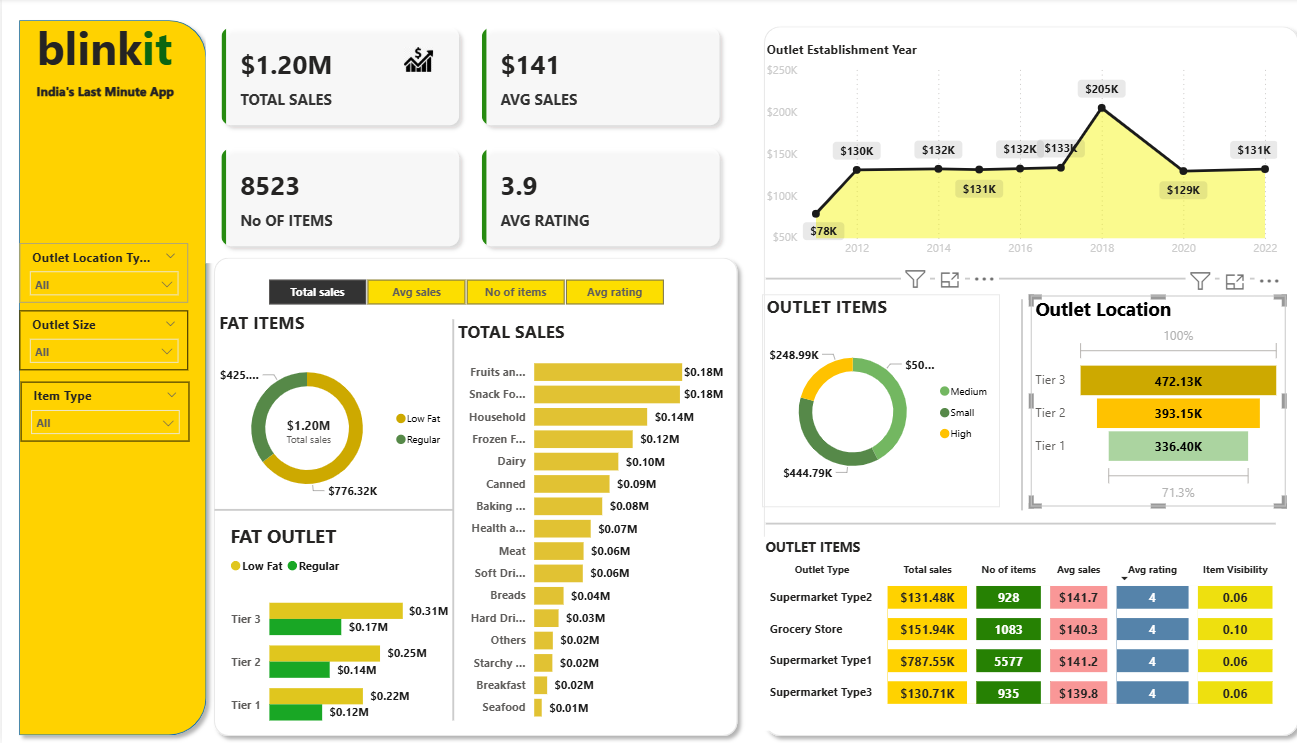

The page's visual inventory and layout, read from the dashboard file:
{"tool":"powerbi","page":{"name":"Page 1","canvas":[1400,800],"ordinal":0},"visuals":[{"type":"shape","box":[8.8,15,218.8,785],"z":0},{"type":"textbox","box":[7.5,15,203.8,76.2],"z":1000},{"type":"textbox","box":[20,86.2,181.2,35],"z":2000},{"type":"cardVisual","fields":{"Data":["BlinkIT Grocery Data.Total sales","BlinkIT Grocery Data.Avg sales","BlinkIT Grocery Data.No of items","BlinkIT Grocery Data.Avg rating"]},"box":[218.5,14.7,569.7,269.4],"z":3000},{"type":"shape","box":[218.5,269.4,579.1,530.8],"z":4000},{"type":"donutChart","title":"FAT ITEMS","fields":{"Y":["BlinkIT Grocery Data.Total sales"],"Category":["BlinkIT Grocery Data.Item Fat Content"]},"box":[227.9,335.1,256,227.9],"z":5000},{"type":"slicer","fields":{"Values":["metrics.metrics"]},"box":[260.1,294.9,473.2,40.2],"z":6000},{"type":"cardVisual","fields":{"Data":["BlinkIT Grocery Data.Total sales"]},"box":[277.5,431.6,103.2,65.7],"z":7000},{"type":"clusteredBarChart","title":"FAT OUTLET","fields":{"Y":["BlinkIT Grocery Data.Total sales"],"Category":["BlinkIT Grocery Data.Outlet Location Type"],"Series":["BlinkIT Grocery Data.Item Fat Content"]},"box":[239.9,563,244,237.3],"z":8000},{"type":"shape","box":[227.9,534.9,256,28.2],"z":9000},{"type":"shape","box":[467.8,344.5,32.2,430.3],"z":10000},{"type":"barChart","title":"TOTAL SALES","fields":{"Y":["BlinkIT Grocery Data.Total sales"],"Category":["BlinkIT Grocery Data.Item Type"]},"box":[483.9,344.5,294.9,441],"z":11000},{"type":"shape","box":[808.3,21.4,591.2,778.8],"z":12000},{"type":"lineChart","title":" Outlet Establishment Year","fields":{"Category":["BlinkIT Grocery Data.Outlet Establishment Year"],"Y":["BlinkIT Grocery Data.Total sales"]},"box":[815,45.6,557.6,241.3],"z":13000},{"type":"shape","box":[819,286.9,546.9,28.2],"z":14000},{"type":"donutChart","title":"OUTLET ITEMS","fields":{"Y":["BlinkIT Grocery Data.Total sales"],"Category":["BlinkIT Grocery Data.Outlet Size"]},"box":[815,317.7,256,227.9],"z":15000},{"type":"shape","box":[1077.8,323.1,32.2,226.5],"z":16000},{"type":"funnel","title":" Outlet Location ","fields":{"Category":["BlinkIT Grocery Data.Outlet Location Type"],"Y":["Sum(BlinkIT Grocery Data.Sales)"]},"box":[1103.2,319,273.5,226.5],"z":17000},{"type":"shape","box":[819,549.6,546.9,28.2],"z":18000},{"type":"pivotTable","title":"OUTLET ITEMS","fields":{"Rows":["BlinkIT Grocery Data.Outlet Type"],"Values":["BlinkIT Grocery Data.Total sales","BlinkIT Grocery Data.No of items","BlinkIT Grocery Data.Avg sales","BlinkIT Grocery Data.Avg rating","Avg(BlinkIT Grocery Data.Item Visibility)"]},"box":[813.7,577.8,559,207.8],"z":19000},{"type":"slicer","fields":{"Values":["BlinkIT Grocery Data.Outlet Location Type"]},"box":[18.8,262.7,181,64.3],"z":20000},{"type":"slicer","fields":{"Values":["BlinkIT Grocery Data.Outlet Size"]},"box":[18.8,335.1,181,64.3],"z":21000},{"type":"slicer","fields":{"Values":["BlinkIT Grocery Data.Item Type"]},"box":[20.1,411.5,181,64.3],"z":22000},{"type":"image","box":[426.2,45,41.2,41.2],"z":24000}]}

Visuals, with their boxes in screenshot pixels (x1, y1, x2, y2), scaled from the page's 1400x800 canvas onto the 1297x743 screenshot:
shape: crop(8, 14, 211, 742)
textbox: crop(7, 14, 196, 85)
textbox: crop(19, 80, 186, 113)
cardVisual - BlinkIT Grocery Data.Total sales x BlinkIT Grocery Data.Avg sales: crop(202, 14, 730, 264)
shape: crop(202, 250, 739, 742)
"FAT ITEMS" donutChart: crop(211, 311, 448, 523)
slicer - metrics.metrics: crop(241, 274, 679, 311)
cardVisual - BlinkIT Grocery Data.Total sales: crop(257, 401, 353, 462)
"FAT OUTLET" clusteredBarChart: crop(222, 523, 448, 742)
shape: crop(211, 497, 448, 523)
shape: crop(433, 320, 463, 720)
"TOTAL SALES" barChart: crop(448, 320, 722, 730)
shape: crop(749, 20, 1296, 742)
" Outlet Establishment Year" lineChart: crop(755, 42, 1272, 266)
shape: crop(759, 266, 1265, 293)
"OUTLET ITEMS" donutChart: crop(755, 295, 992, 507)
shape: crop(999, 300, 1028, 510)
" Outlet Location " funnel: crop(1022, 296, 1275, 507)
shape: crop(759, 510, 1265, 537)
"OUTLET ITEMS" pivotTable: crop(754, 537, 1272, 730)
slicer - BlinkIT Grocery Data.Outlet Location Type: crop(17, 244, 185, 304)
slicer - BlinkIT Grocery Data.Outlet Size: crop(17, 311, 185, 371)
slicer - BlinkIT Grocery Data.Item Type: crop(19, 382, 186, 442)
image: crop(395, 42, 433, 80)
